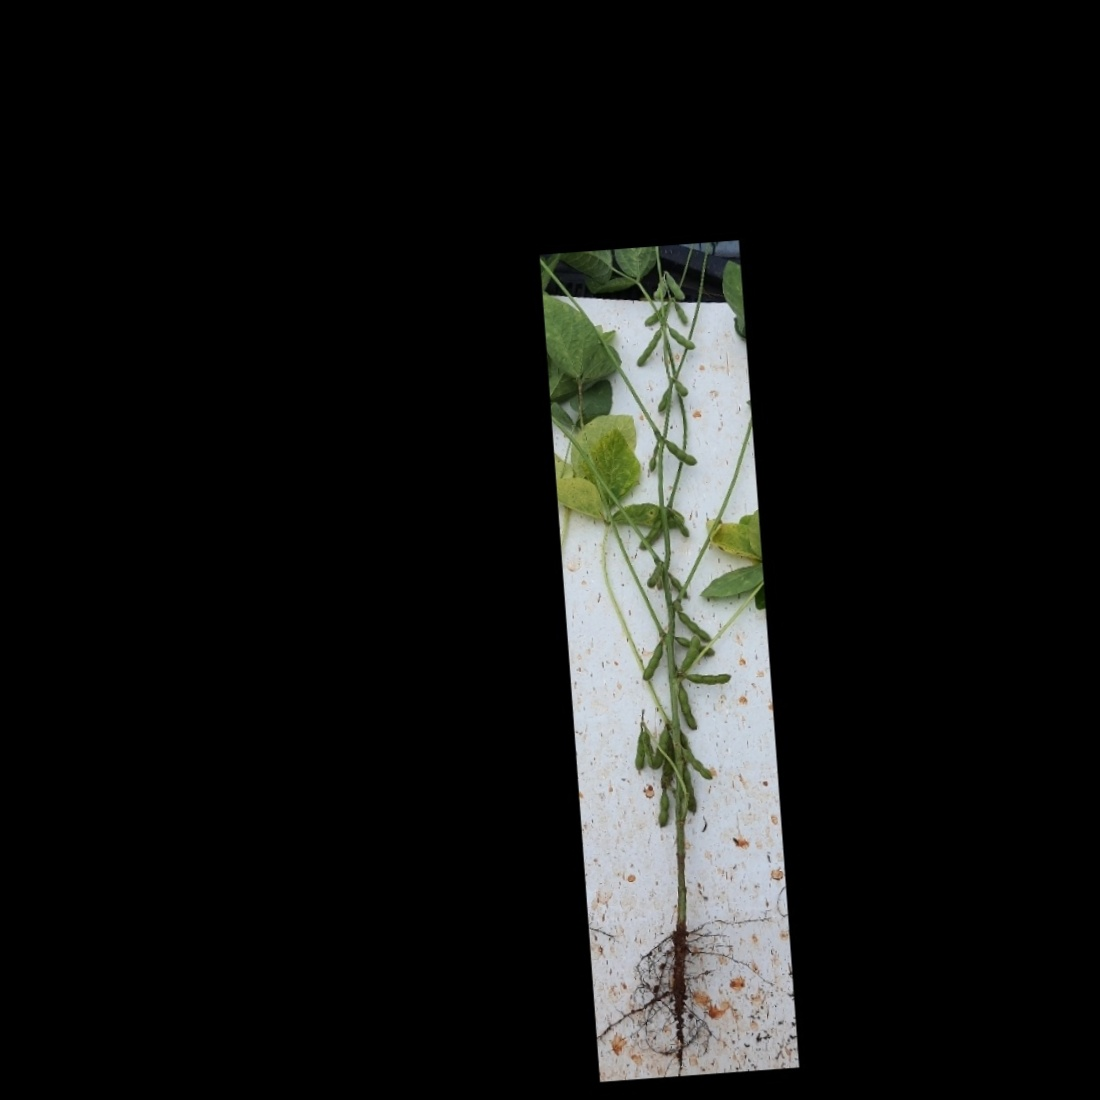pod: (631, 327, 665, 368), (637, 637, 667, 682), (677, 607, 714, 644), (661, 436, 699, 469), (672, 636, 702, 677), (675, 685, 700, 734), (680, 747, 714, 784), (649, 725, 675, 772), (635, 517, 667, 551), (681, 668, 733, 688), (681, 766, 698, 816), (629, 731, 649, 773), (667, 325, 697, 353), (659, 738, 680, 776), (654, 788, 672, 828), (640, 304, 671, 327), (669, 570, 690, 602), (666, 270, 687, 302), (670, 510, 690, 540), (641, 728, 655, 770), (645, 442, 662, 475), (654, 387, 673, 415), (672, 302, 690, 325), (673, 378, 689, 397)
soy: (559, 254, 788, 1038)
